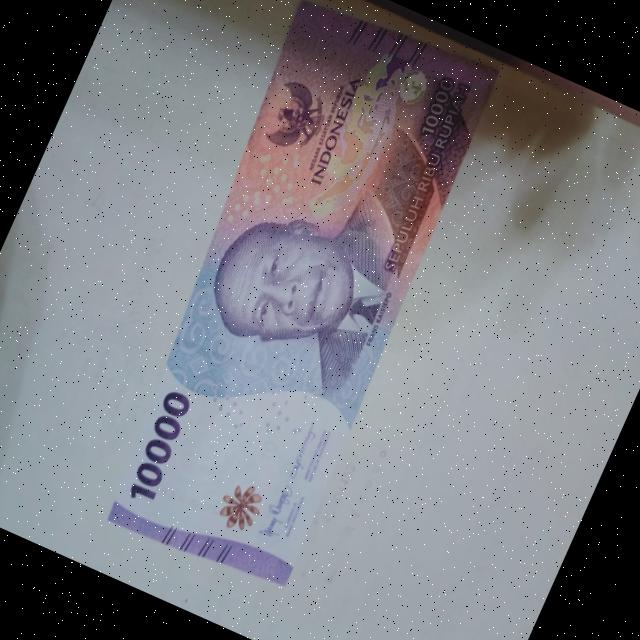10K: (67, 0, 524, 609)
